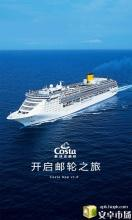youlun: (9, 71, 120, 140)
